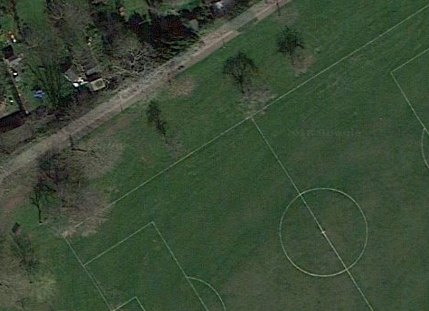tree: (25, 148, 126, 242), (208, 50, 282, 127), (139, 99, 200, 165), (269, 27, 331, 89)
